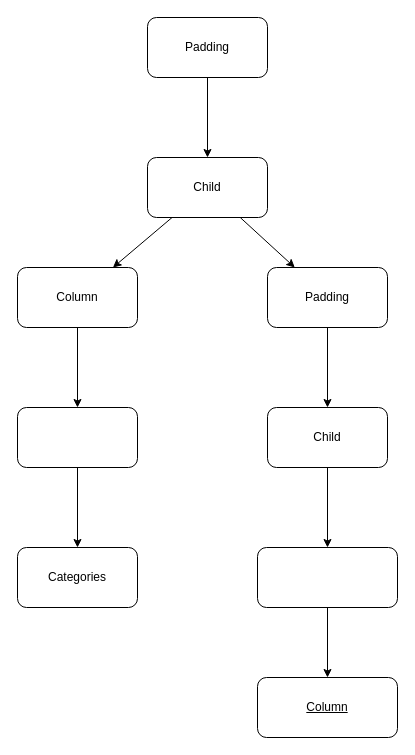
The diagram is 415 pixels wide and 755 high, and some of its shapes have lost their labels. The shapes that lost their labels are listed below. From the top down, each one's centre as x and y in pixels, then its label:
At pixel 77 437: "Children".
At pixel 327 577: "SingleChildScrollView".
